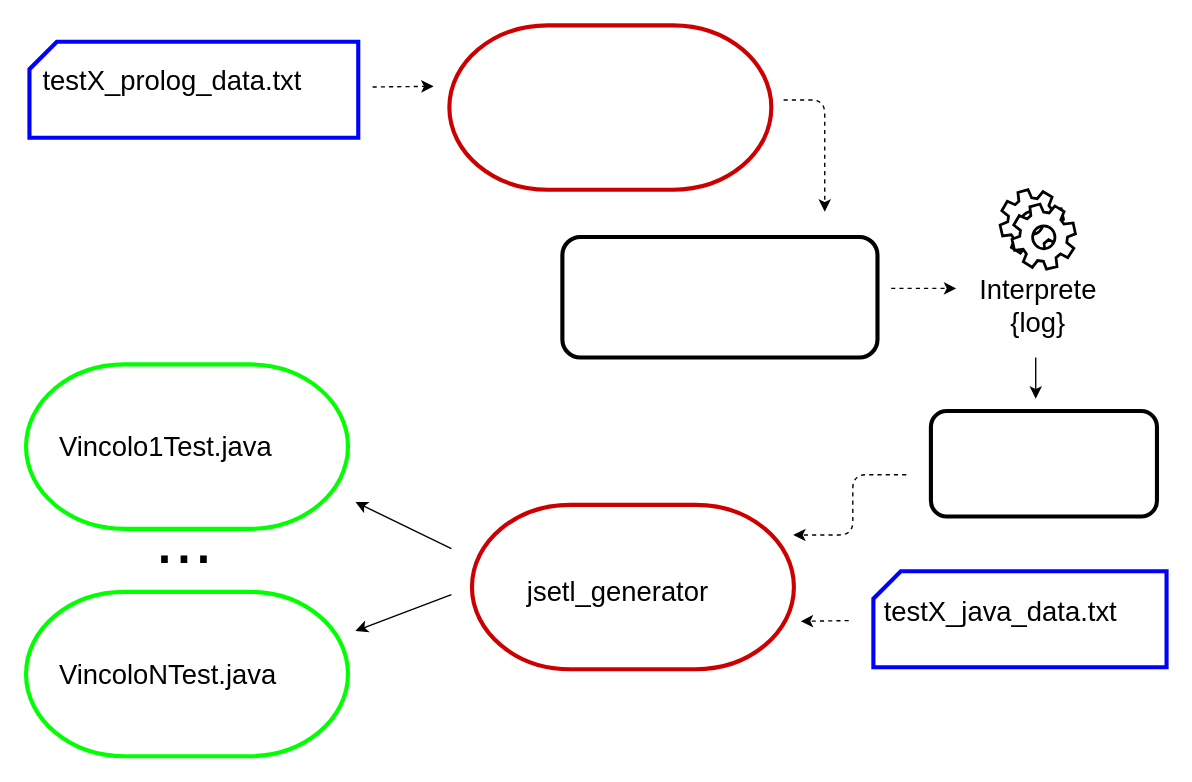
Some shapes in this 1192 by 782 pixel diagram are drawn without their labels. The shapes that lost their labels are listed below. From the top down, each one's centre as x and y in pixels, then its label:
At [610,107]: "setlog_generator".
At [719,296]: "testX_prolog_cases.pl".
At [1043,463]: "testX_test_ cases_specs.txt".
